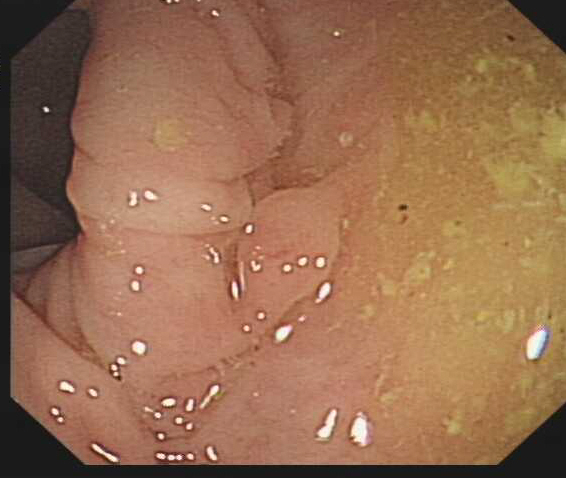others: (232, 181, 342, 327)
